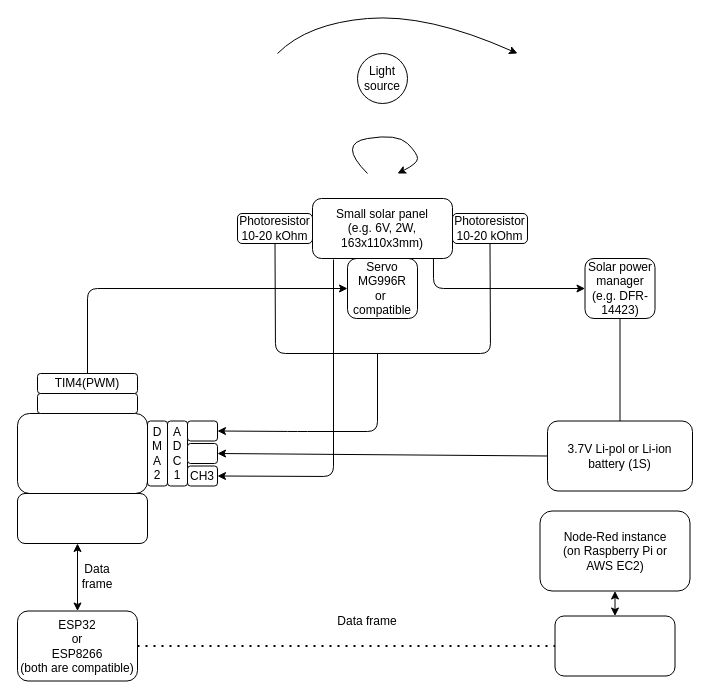
The diagram is 710 pixels wide and 699 high, and some of its shapes have lost their labels. The centre of each missing label's shape, as x and y in pixels:
CH1: pixel 202 430
CH2: pixel 202 453
DMA1: pixel 87 403
Microcontroller STM32F407VG or STM32F429ZIT: pixel 82 453
MQTT broker (e.g. Mosquitto or Mosca): pixel 614 645
USART2 Asynchronous 115200baud: pixel 82 518
